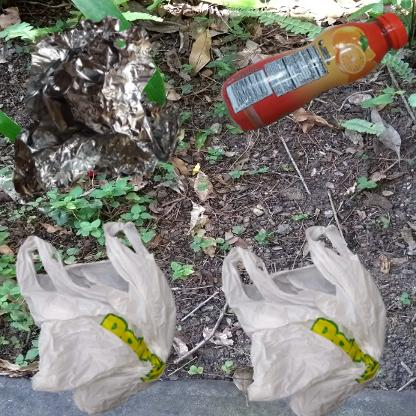aluminio: (10, 10, 189, 213)
bolsa: (213, 213, 416, 416), (10, 213, 195, 416)
botella: (213, 10, 416, 142)
